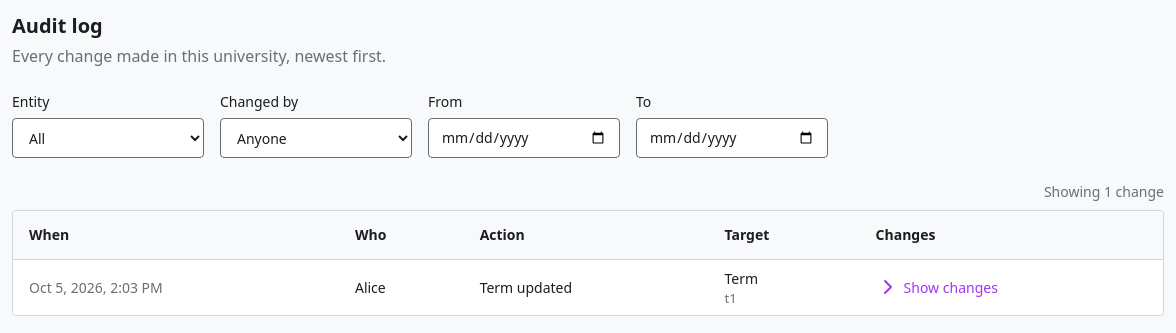
Test: filters by entity type
Expected: the text "Alice" is shown, [339,260,464,314]
Select "Term" in the dropdown labelled "Entity": (108, 138) [12,118,204,158]
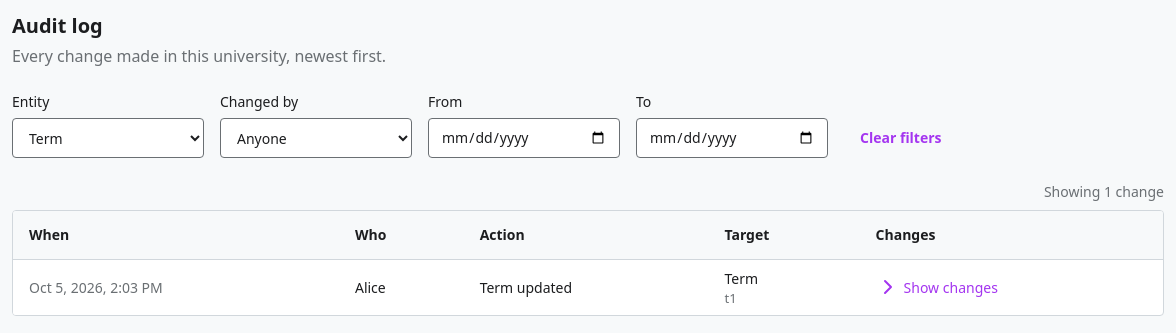
Now the button "Clear filters" is shown, box [844,118,958,158]
